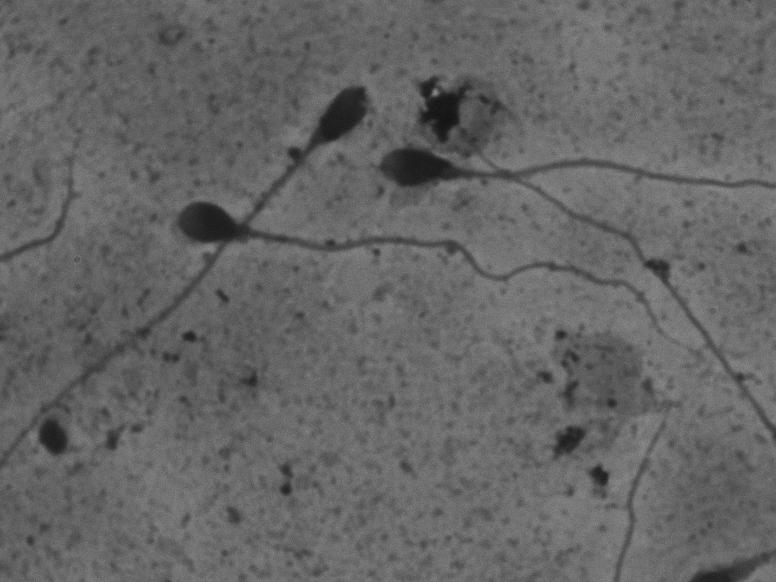Abnormal: (11, 76, 401, 462), (364, 131, 765, 220)
Normal: (148, 190, 705, 365)
